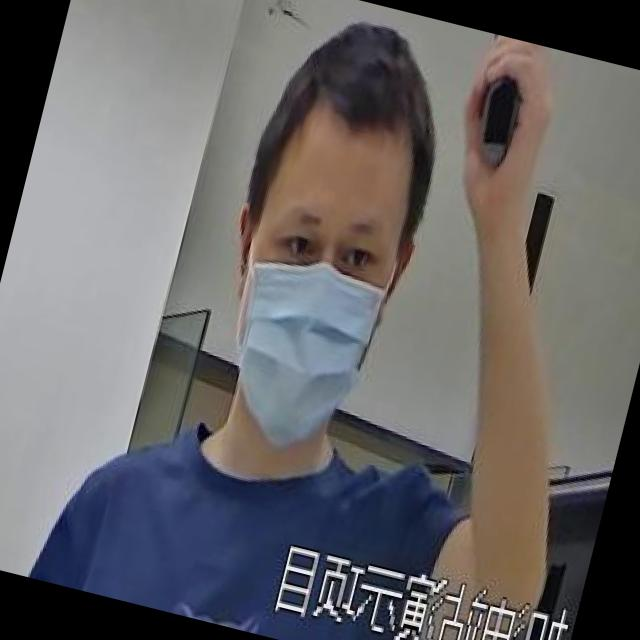Guns: (442, 30, 547, 196)
